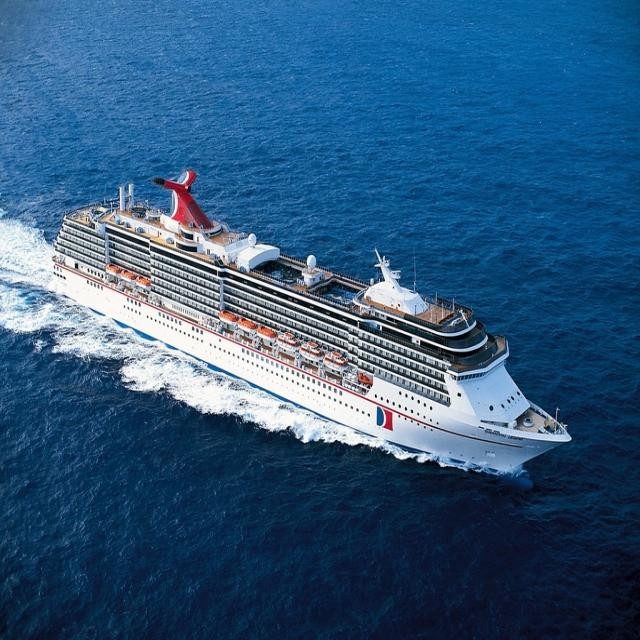Boat: (98, 159, 591, 449)
